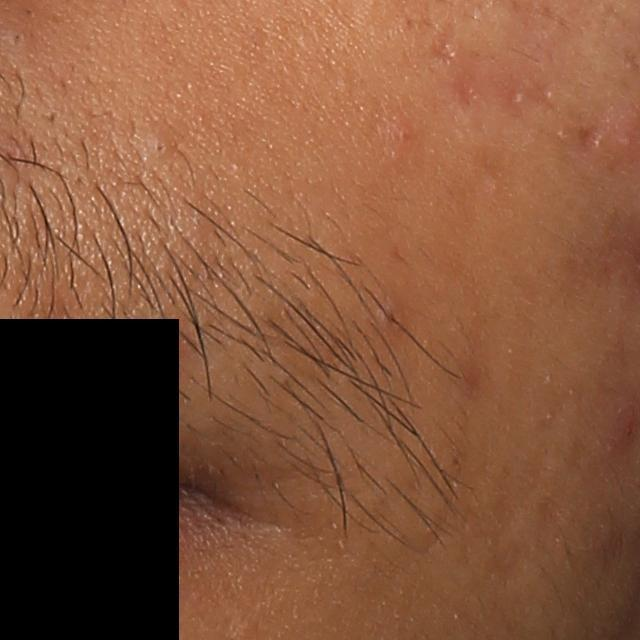atrophic_scar: (570, 108, 608, 161), (454, 72, 482, 117), (429, 29, 461, 63)
comedo: (148, 133, 174, 160)
